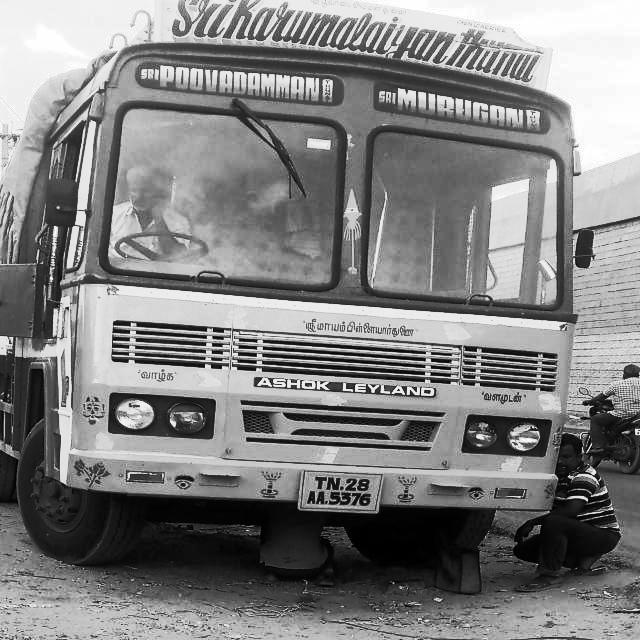HCV: (38, 0, 577, 599)
